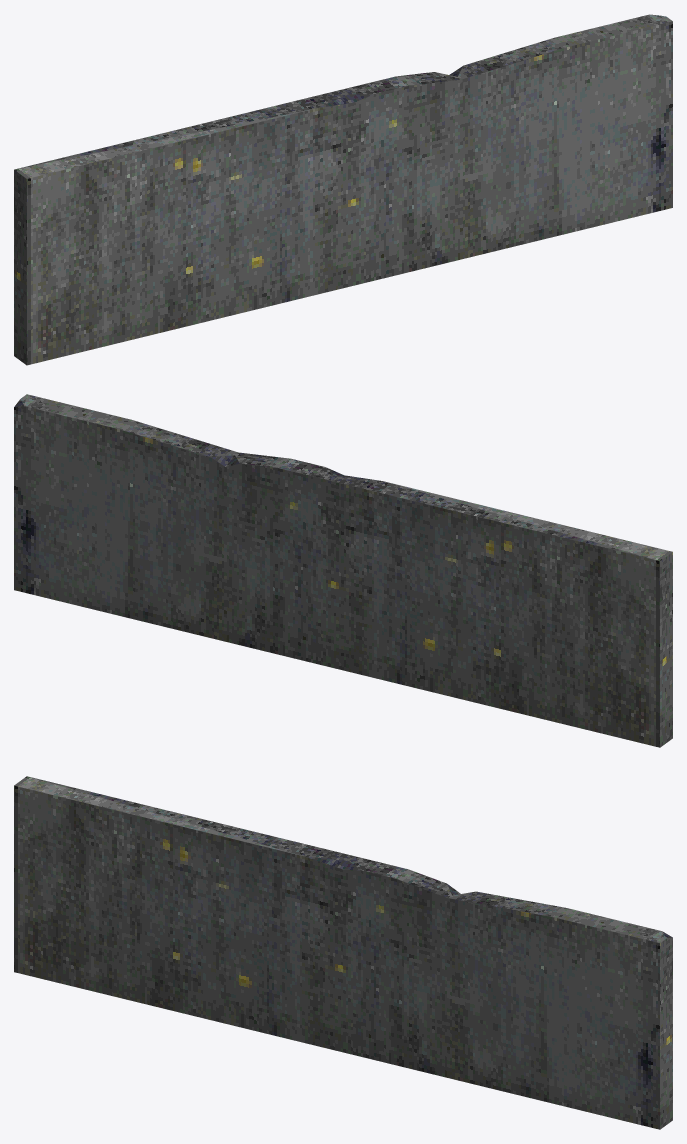
File: plackard_slab_chipped_alt.glb
The picture shows the model from 3 angles, top to bottom: view 1: azimuth 30°, elevation 25°; view 2: azimuth 150°, elevation 25°; view 3: azimuth 330°, elevation 25°; orthographic projection.
Visible parts, largest first — view 1: plackard_slab_chipped_alt; view 2: plackard_slab_chipped_alt; view 3: plackard_slab_chipped_alt.
Part boxes in pixels (left/top/right/bottom): plackard_slab_chipped_alt: left=14, top=14, right=672, bottom=365; plackard_slab_chipped_alt: left=14, top=394, right=672, bottom=747; plackard_slab_chipped_alt: left=14, top=776, right=672, bottom=1129.
Bounding box in the file's own units: 2.9 × 0.8 × 0.1.
Materials: 1 (1 with a texture image).
